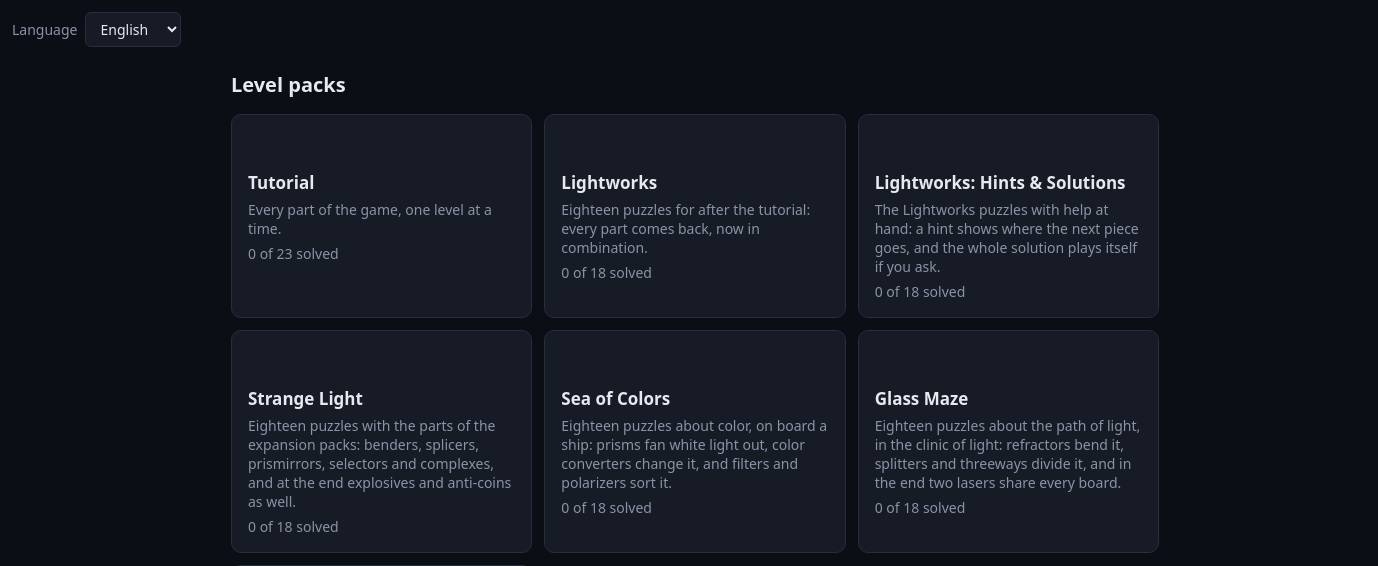
LanguageSwitch › names each language in itself and switches the interface
Select "Deutsch" in the dropdown labelled "Language" at coordinates (134, 30), box [86, 12, 182, 47]
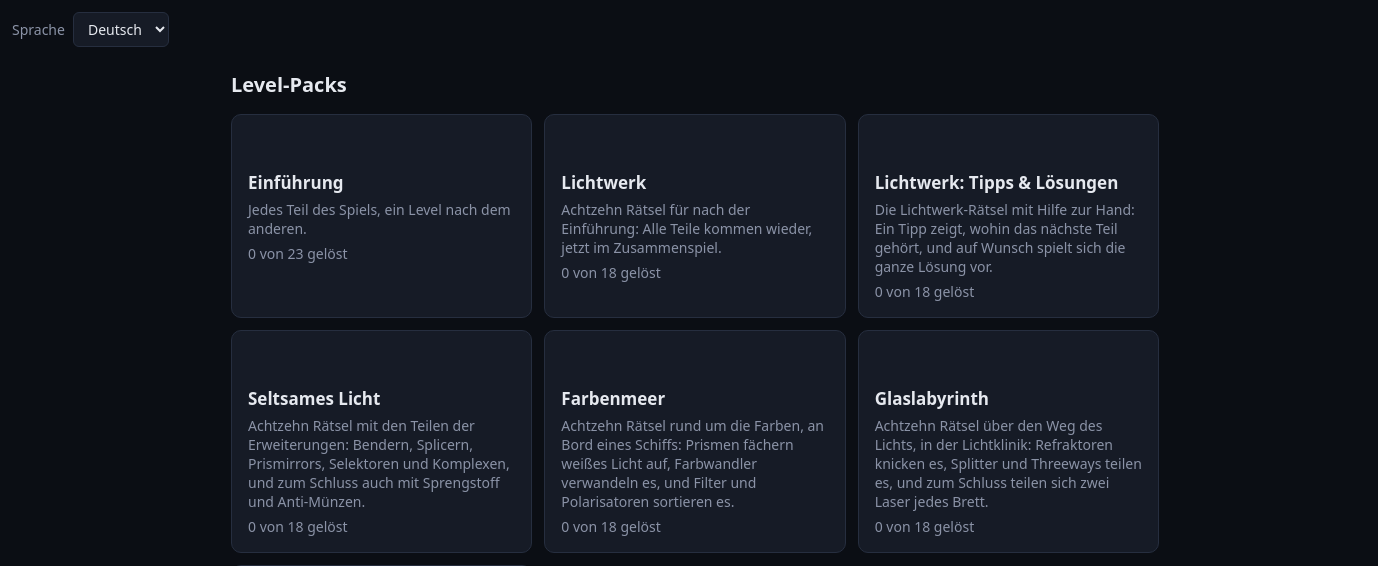
Result: the heading "Level-Packs" is shown at [231, 71, 347, 98]
Result: the button "Einführung" is shown at [231, 114, 532, 318]
